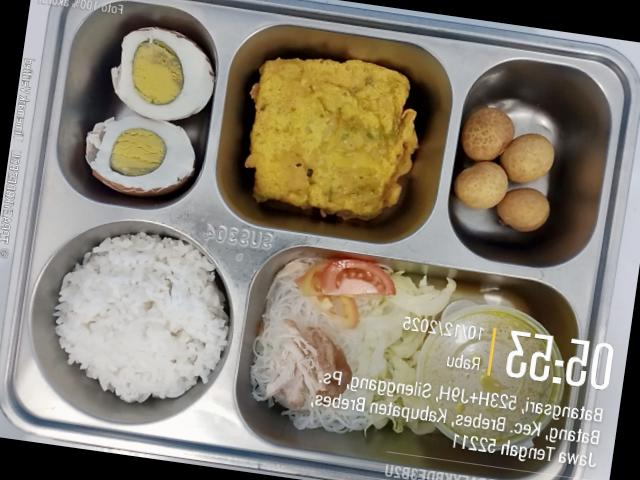ayam: (267, 319, 352, 409)
buah: (497, 188, 550, 232)
mie: (250, 259, 338, 400)
nasi: (55, 233, 228, 402)
sayur: (379, 273, 456, 383), (305, 259, 396, 328)
telur: (86, 27, 215, 196)
tempe: (246, 59, 418, 219)
